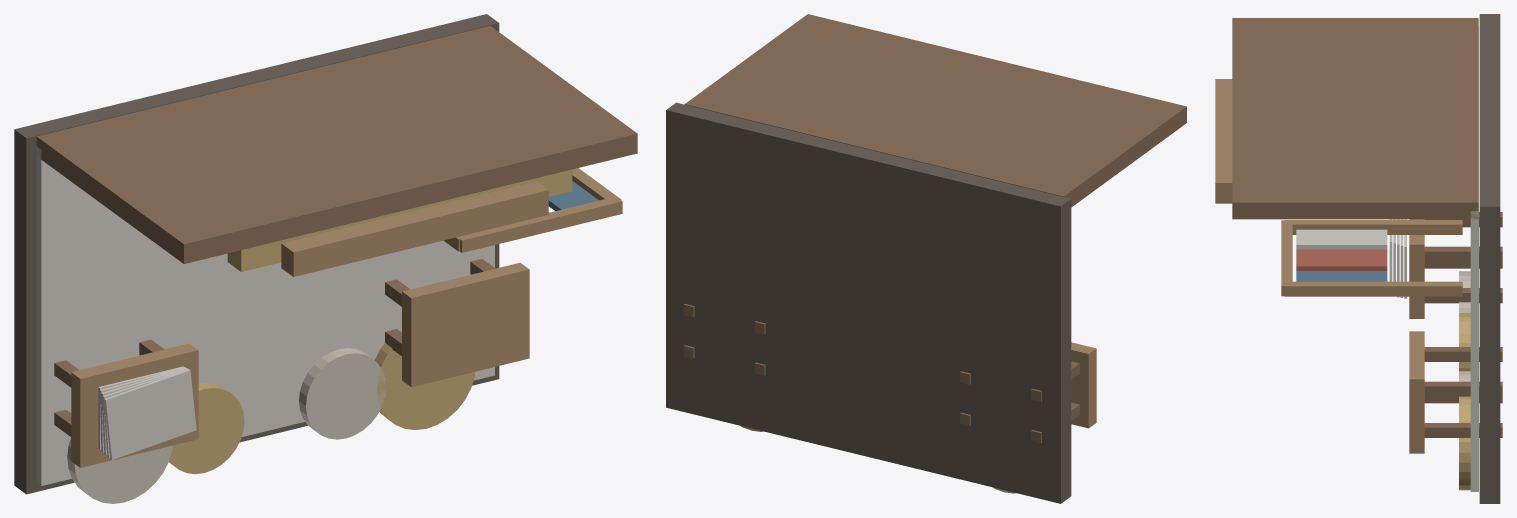
The model's file is ban_workshop_static.glb.
3 views of the same model, side by side, from view 1: azimuth 30°, elevation 25°; view 2: azimuth 150°, elevation 25°; view 3: azimuth 270°, elevation 25° (orthographic). The views are drawn at different scales.
Visible parts, largest first — view 1: world; view 2: world; view 3: world.
Boxes of the visible parts, x1,y1,x2,y2 form: world: (14, 14, 637, 503); world: (666, 14, 1186, 503); world: (1215, 14, 1502, 503).
Size of the model in its own units: 1.01 by 0.76 by 0.6305.
